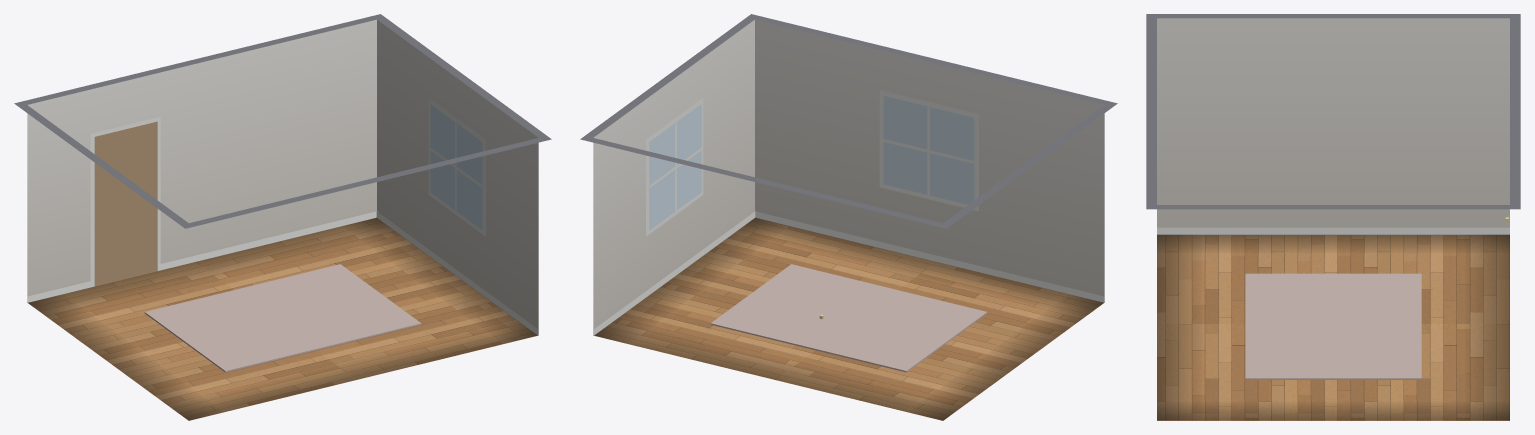
The model's file is living_room.glb.
3 renders of one model, left to right at view 1: azimuth 30°, elevation 25°; view 2: azimuth 150°, elevation 25°; view 3: azimuth 270°, elevation 25°, orthographic. The views are drawn at different scales.
Parts seen in each view (by area): view 1: Home; view 2: Home; view 3: Home.
Boxes of the visible parts, box(x1,y1,x2,y2) form: Home: box(14, 14, 551, 420); Home: box(580, 14, 1117, 420); Home: box(1146, 14, 1520, 420).
Bounding box in the file's own units: 5.24 × 2.7 × 4.24.
10 materials, 1 textured.
